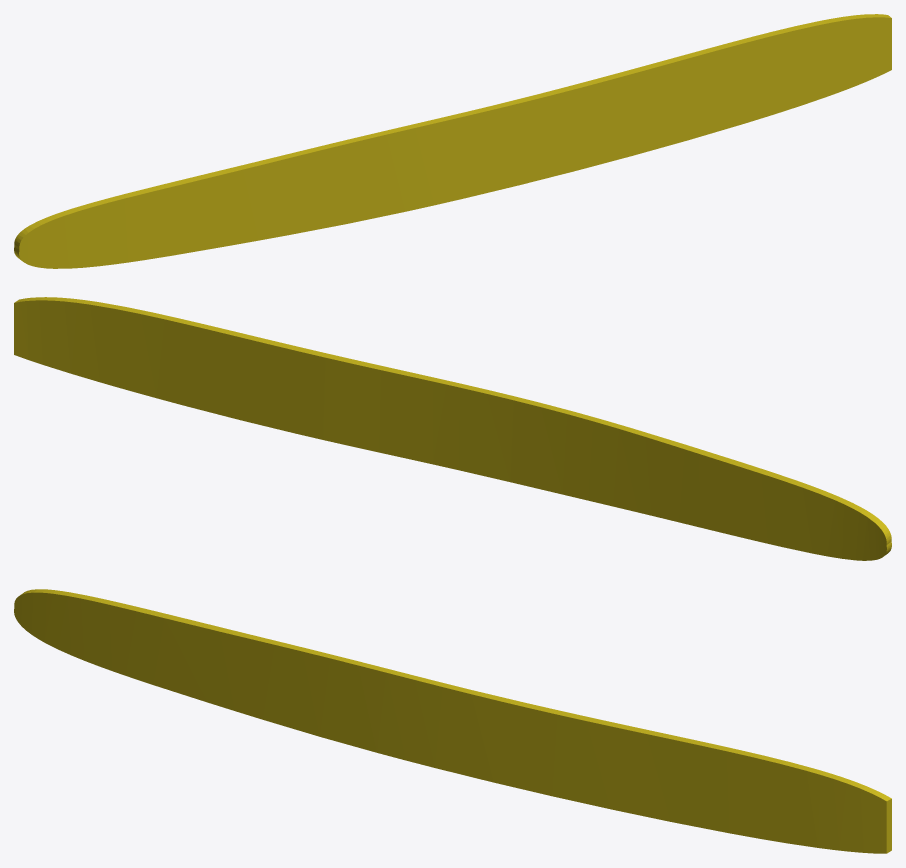
The model's file is starboard_cover.dae.
3 views of the same model, one above another, from view 1: azimuth 30°, elevation 25°; view 2: azimuth 150°, elevation 25°; view 3: azimuth 330°, elevation 25° (orthographic).
Parts seen in each view (by area): view 1: starboard_hull_cover; view 2: starboard_hull_cover; view 3: starboard_hull_cover.
Boxes of the visible parts, x1,y1,x2,y2 form: starboard_hull_cover: [14, 14, 891, 268]; starboard_hull_cover: [14, 297, 891, 560]; starboard_hull_cover: [14, 589, 891, 853].
Size of the model in its own units: 5.21 by 0.1993 by 0.4792.
1 material, 1 textured.
